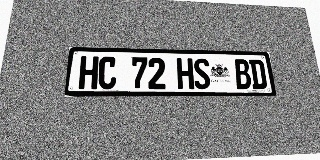2: (148, 57, 165, 89)
7: (130, 57, 148, 89)
B: (233, 59, 252, 89)
C: (98, 56, 117, 89)
D: (249, 59, 268, 89)
H: (78, 56, 99, 89), (176, 58, 194, 89)
S: (193, 58, 211, 89)
